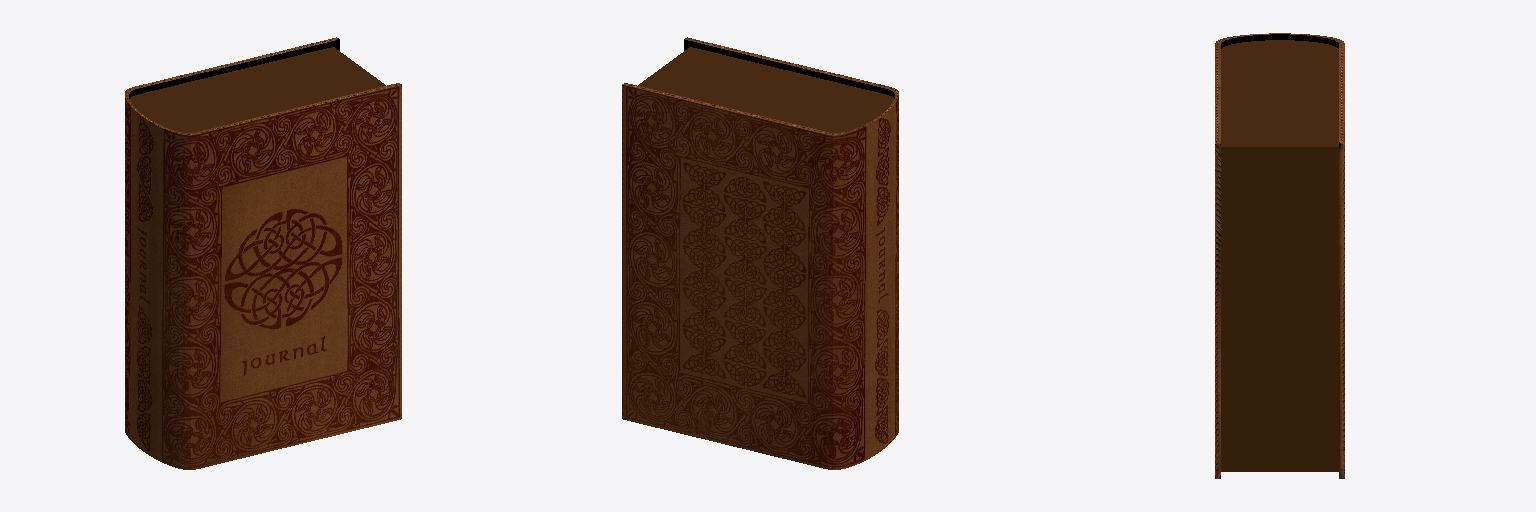
3 renders of one model, left to right at view 1: azimuth 30°, elevation 25°; view 2: azimuth 150°, elevation 25°; view 3: azimuth 270°, elevation 25°, orthographic.
Parts seen in each view (by area): view 1: Book_Circle; view 2: Book_Circle; view 3: Book_Circle.
Boxes of the visible parts, <box> form: Book_Circle: <box>125,37,401,469</box>; Book_Circle: <box>622,37,898,469</box>; Book_Circle: <box>1215,33,1344,478</box>.
Size of the model in its own units: 1.78 by 2.5 by 0.88.
2 materials, 1 textured.